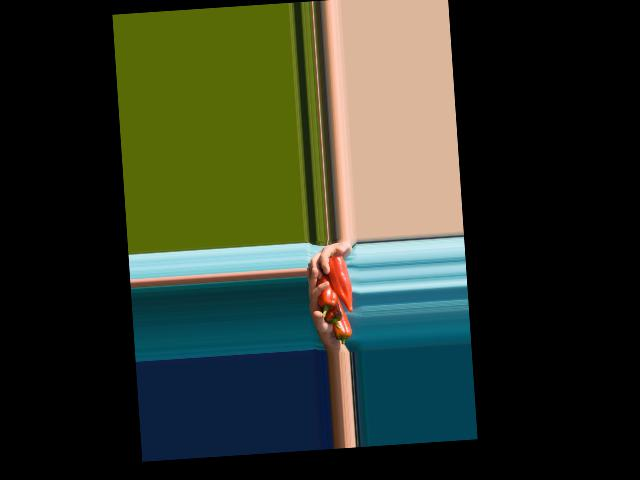bell_pepper: (330, 307, 352, 345)
